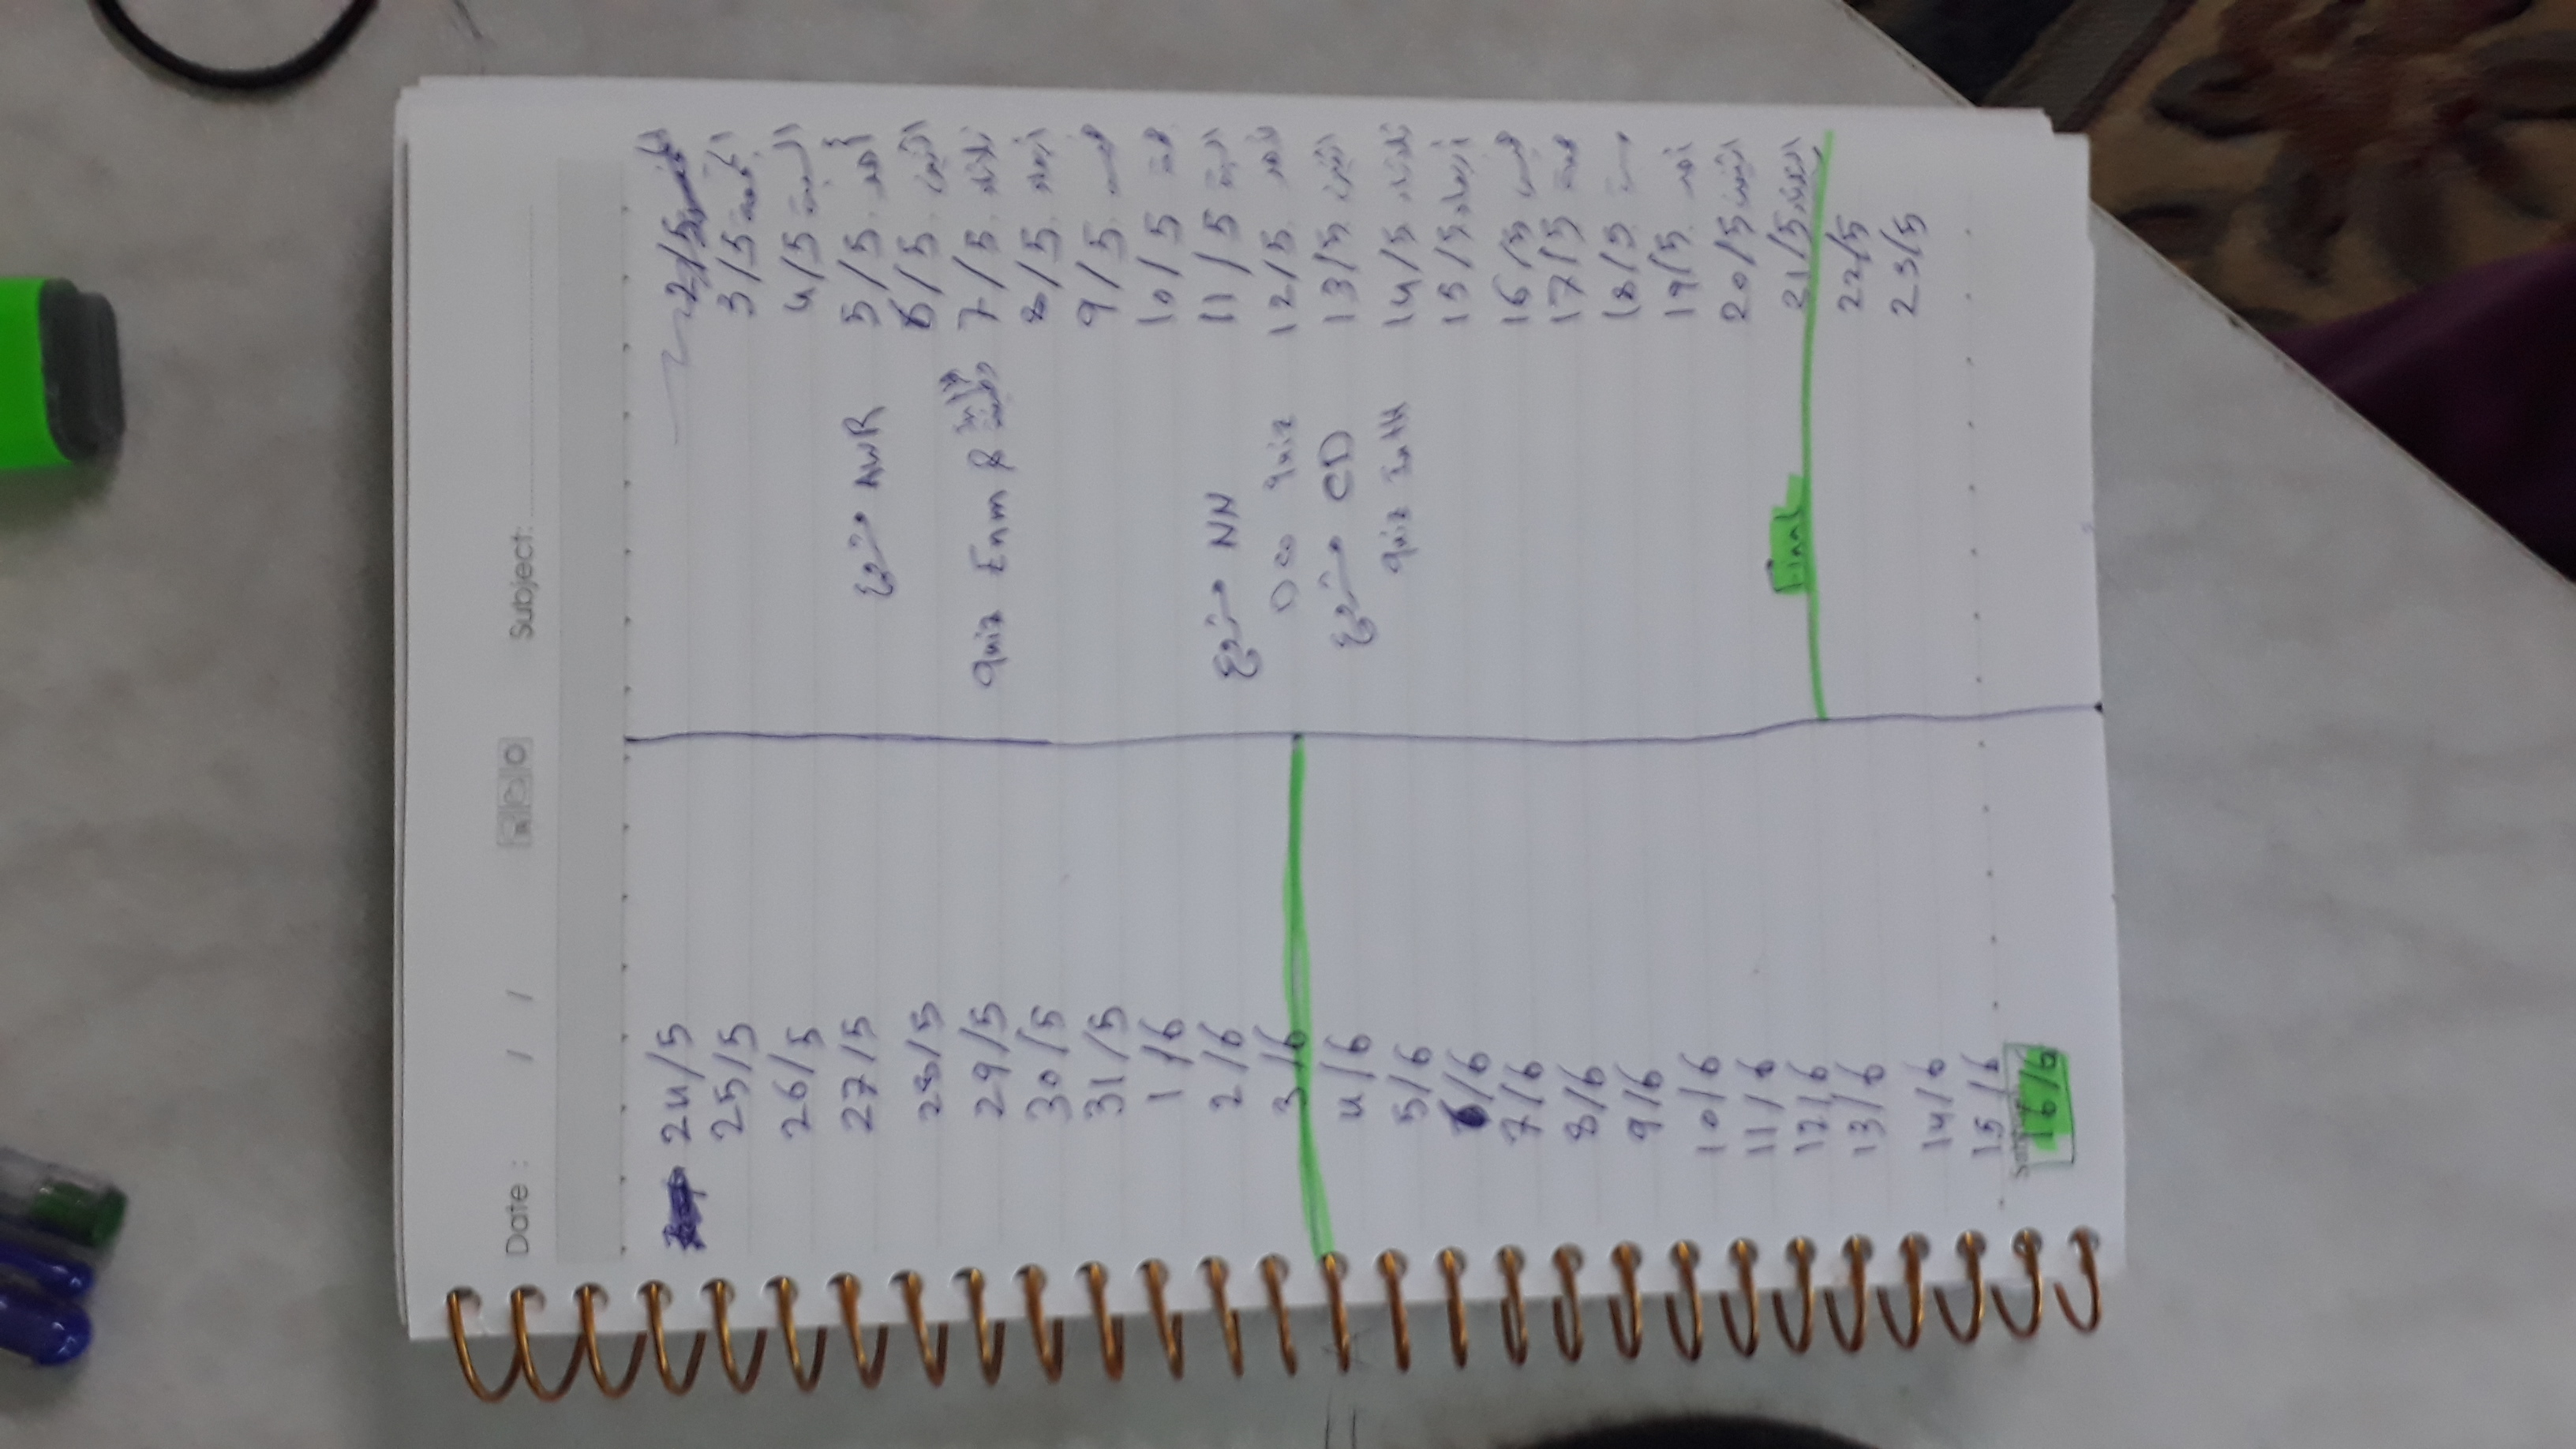dftar: (364, 85, 2135, 1415)
